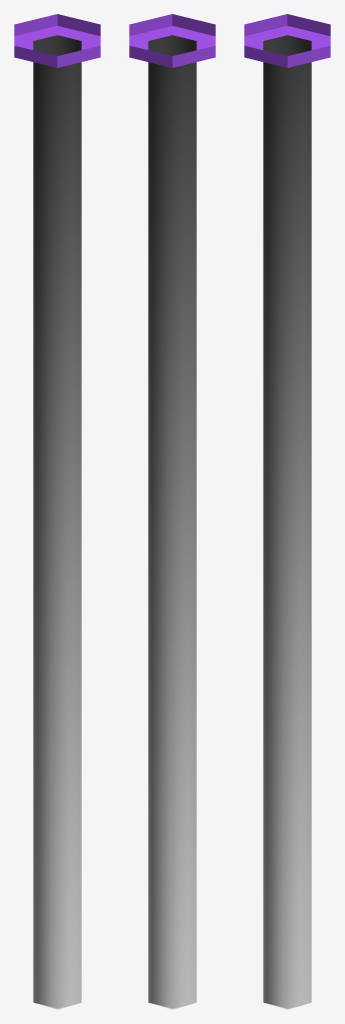
File: LightCeiling15_1.FBX
3 renders of one model, left to right at view 1: azimuth 30°, elevation 25°; view 2: azimuth 150°, elevation 25°; view 3: azimuth 330°, elevation 25°, orthographic.
Visible parts, largest first — view 1: LightCeiling15_1; view 2: LightCeiling15_1; view 3: LightCeiling15_1.
Part boxes in pixels (x1,y1,x2,y2): LightCeiling15_1: (14, 14, 100, 1009); LightCeiling15_1: (129, 14, 215, 1009); LightCeiling15_1: (244, 14, 330, 1009).
Size of the model in its own units: 5.63 by 60.7 by 4.88.
